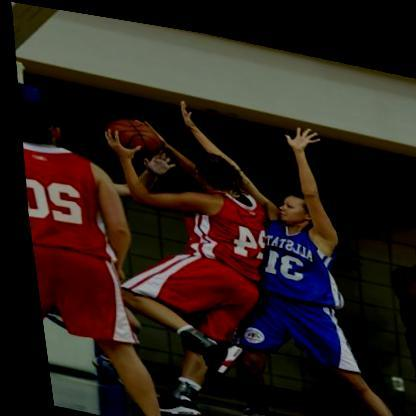basketball: (101, 109, 164, 159)
